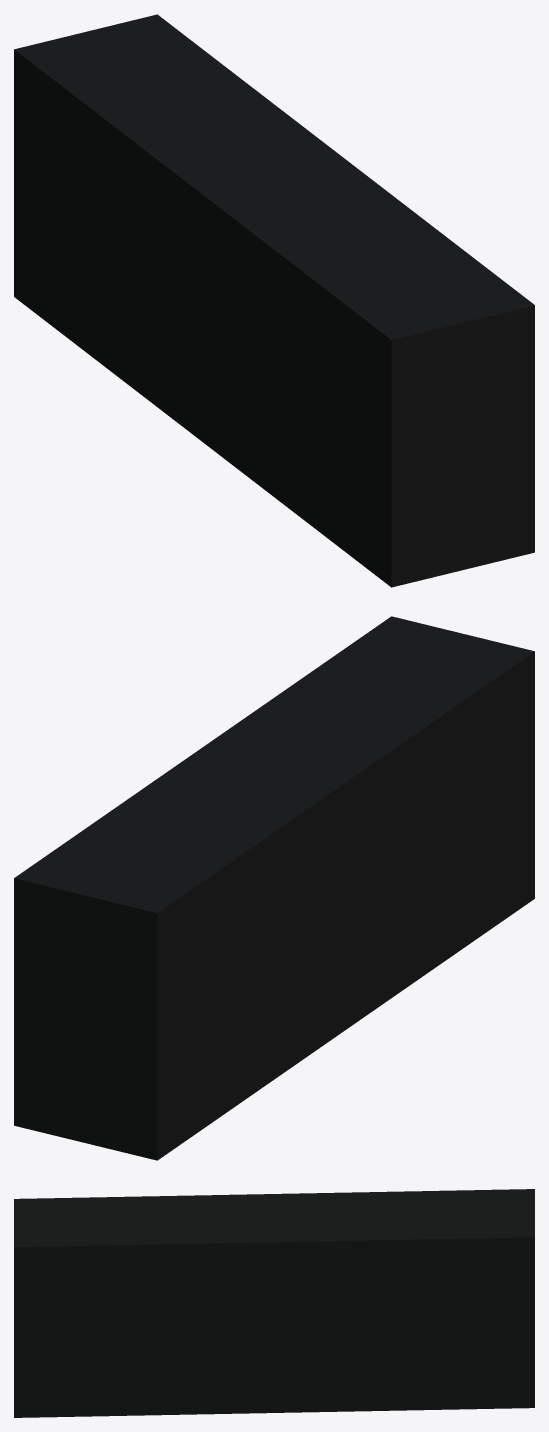
Rendered from MAC10MagAttach.fbx.
The picture shows the model from 3 angles, top to bottom: view 1: azimuth 30°, elevation 25°; view 2: azimuth 150°, elevation 25°; view 3: azimuth 270°, elevation 25°; orthographic projection. The views are drawn at different scales.
Parts seen in each view (by area): view 1: node_7eb8945f_c9b5_4b90_a62e_b771b0daf3d9_mesh0; view 2: node_7eb8945f_c9b5_4b90_a62e_b771b0daf3d9_mesh0; view 3: node_7eb8945f_c9b5_4b90_a62e_b771b0daf3d9_mesh0.
Boxes of the visible parts, left/top/right/bottom form: node_7eb8945f_c9b5_4b90_a62e_b771b0daf3d9_mesh0: left=14, top=14, right=534, bottom=587; node_7eb8945f_c9b5_4b90_a62e_b771b0daf3d9_mesh0: left=14, top=616, right=534, bottom=1160; node_7eb8945f_c9b5_4b90_a62e_b771b0daf3d9_mesh0: left=14, top=1189, right=534, bottom=1417.
Bounding box in the file's own units: 0.01 × 0.0175 × 0.0456.
